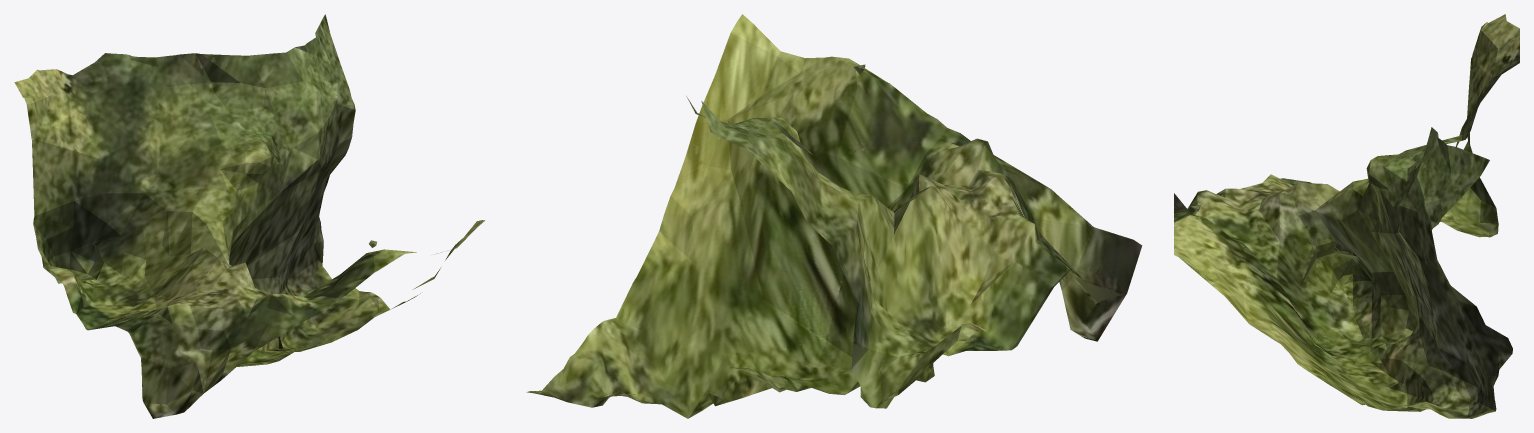
3 views of the same model, side by side, from view 1: azimuth 30°, elevation 25°; view 2: azimuth 150°, elevation 25°; view 3: azimuth 270°, elevation 25° (orthographic). The views are drawn at different scales.
Bounding box in the file's own units: 2.95 × 2.68 × 2.95.
5 materials, 5 textured.
